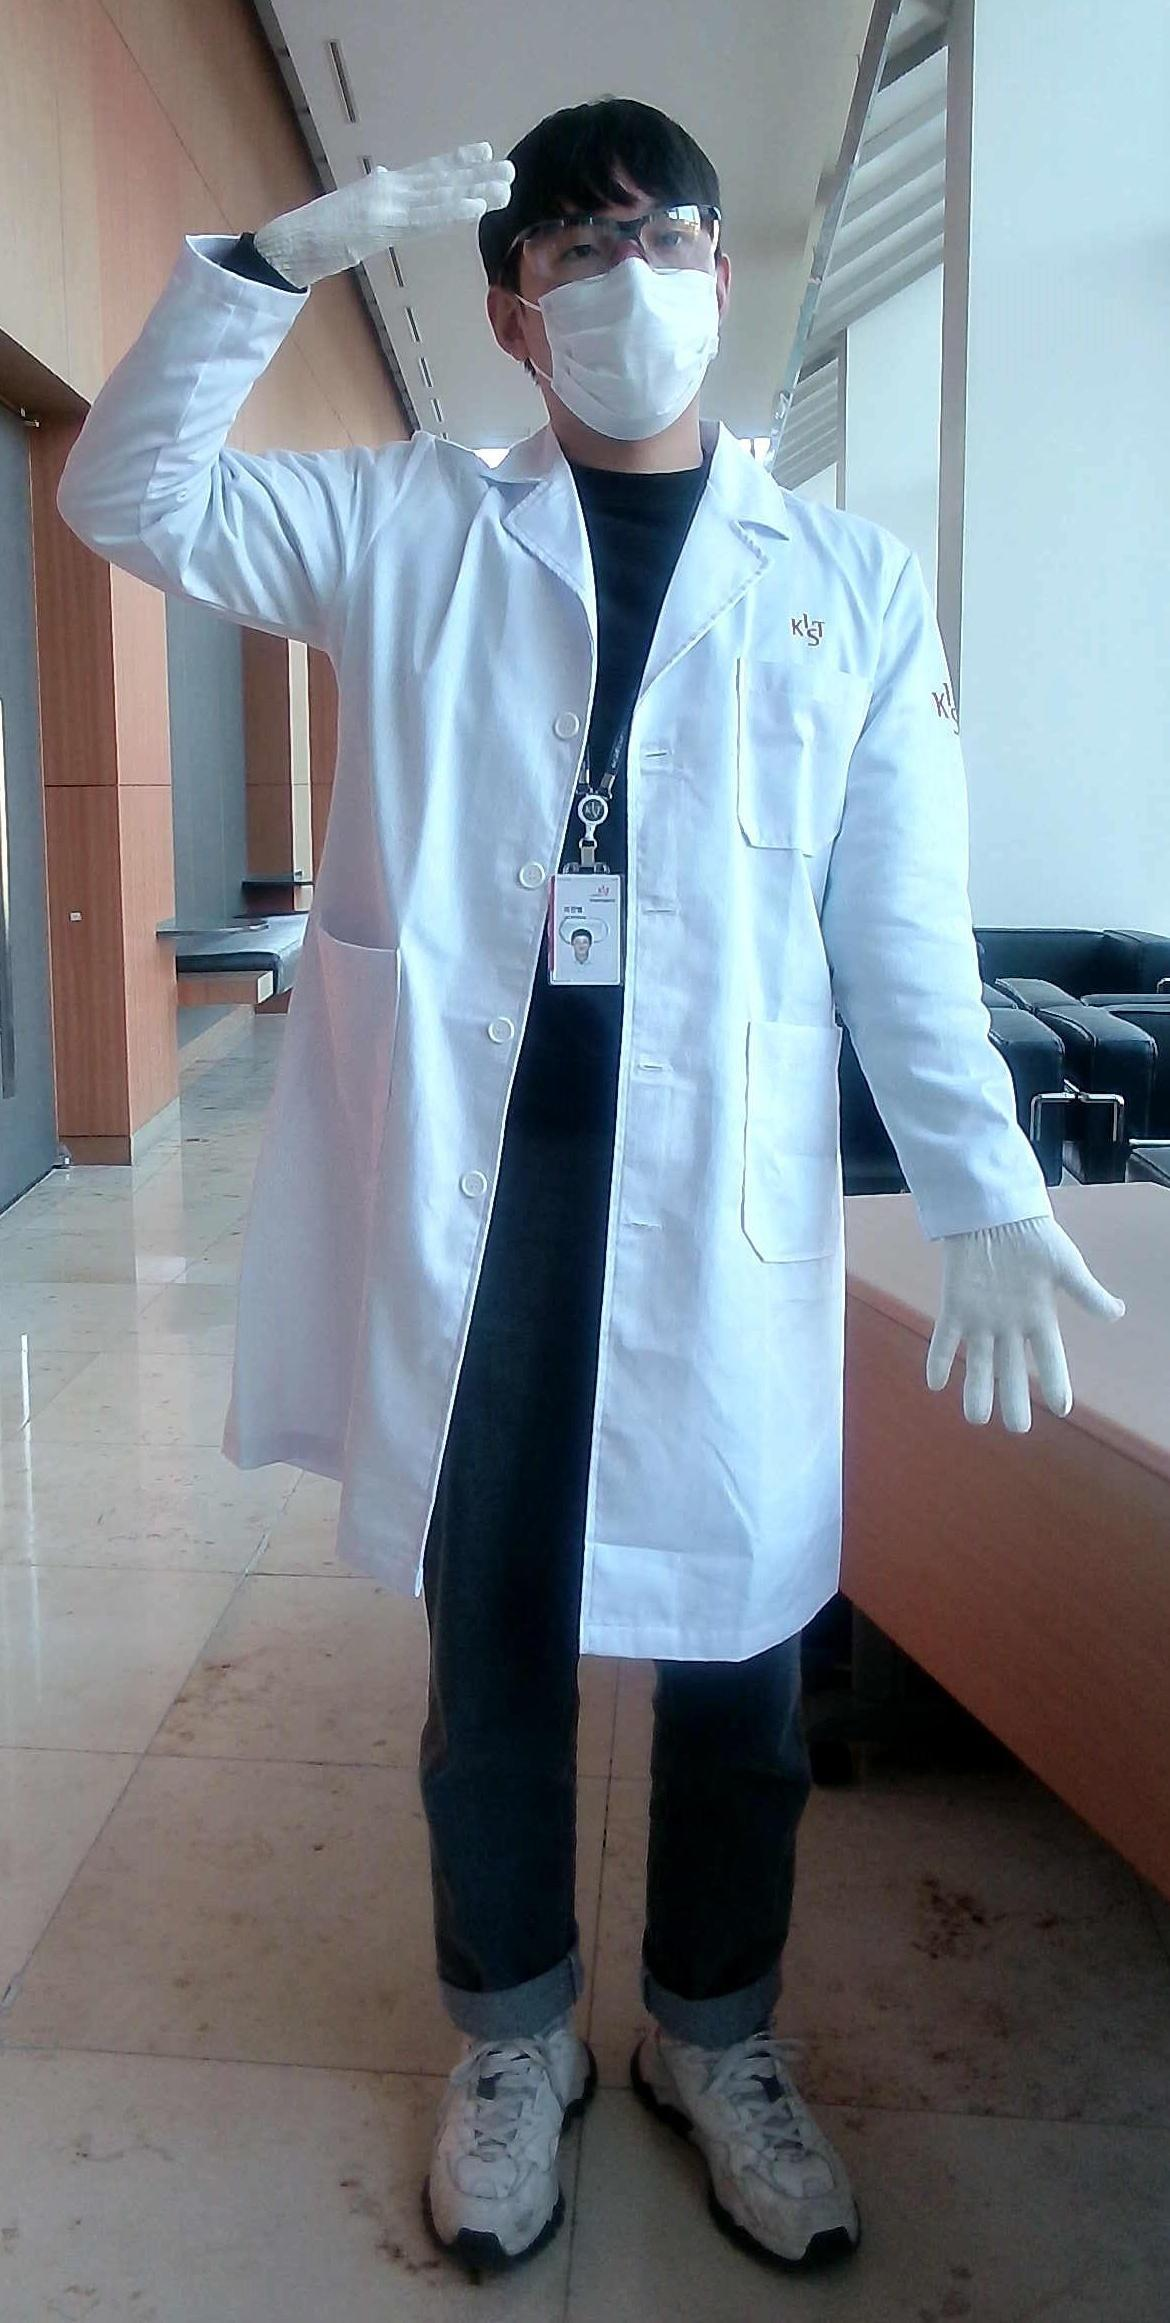lab_coat: (239, 551, 942, 1622)
